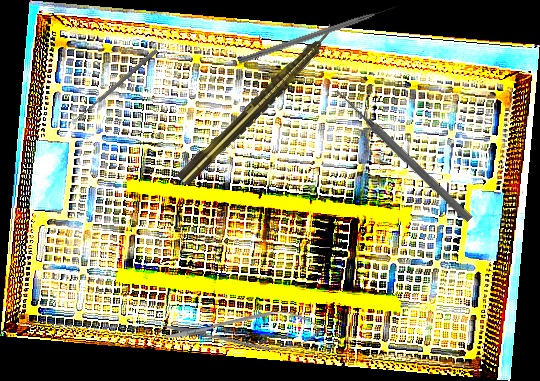Handpiece: (174, 21, 342, 188)
Hook Surgical: (237, 2, 400, 66)
Micro Scissor: (163, 309, 322, 353)
Pusher: (332, 86, 475, 224)
Surgical Spoon: (70, 48, 159, 125)
